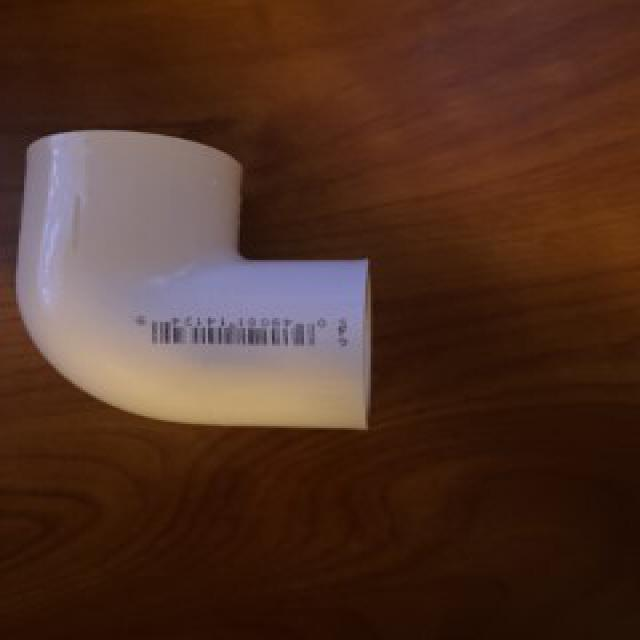L Joint: (15, 130, 374, 432)
